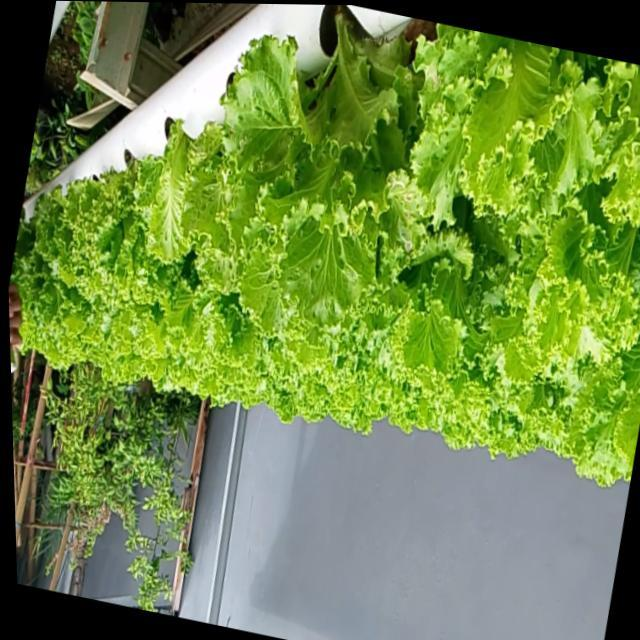Mature: (9, 5, 640, 491), (185, 5, 426, 331), (55, 155, 171, 313)
